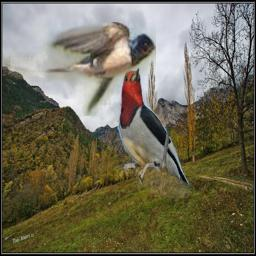Swallow: (3, 22, 156, 116)
Woodpecker: (115, 61, 193, 198)
